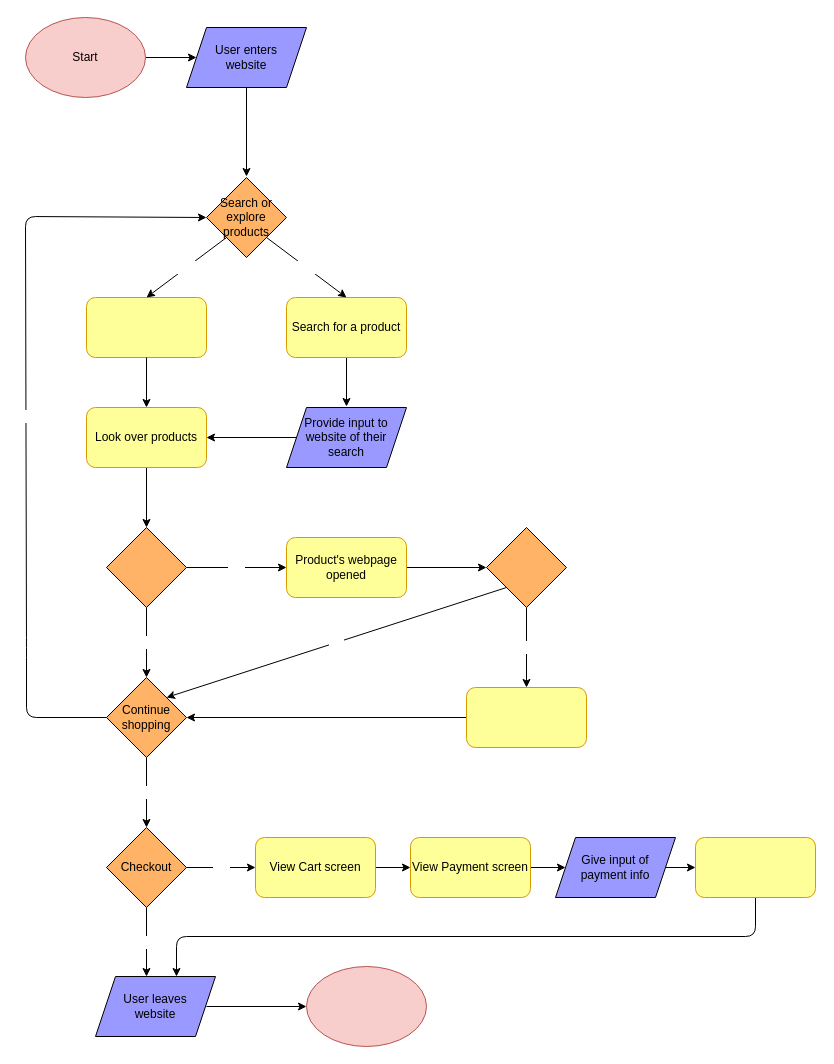
Image size: 834x1064. Some labels were removed from this diagram. Here are the shapes that lost their labels. From the top down, the centre of each, then its label:
[146,327]: Explore products on home page
[146,567]: Viewing specific product
[526,567]: Add product to cart
[526,717]: Added to cart confirmation
[755,867]: Order confirmation screen and email
[366,1006]: End
